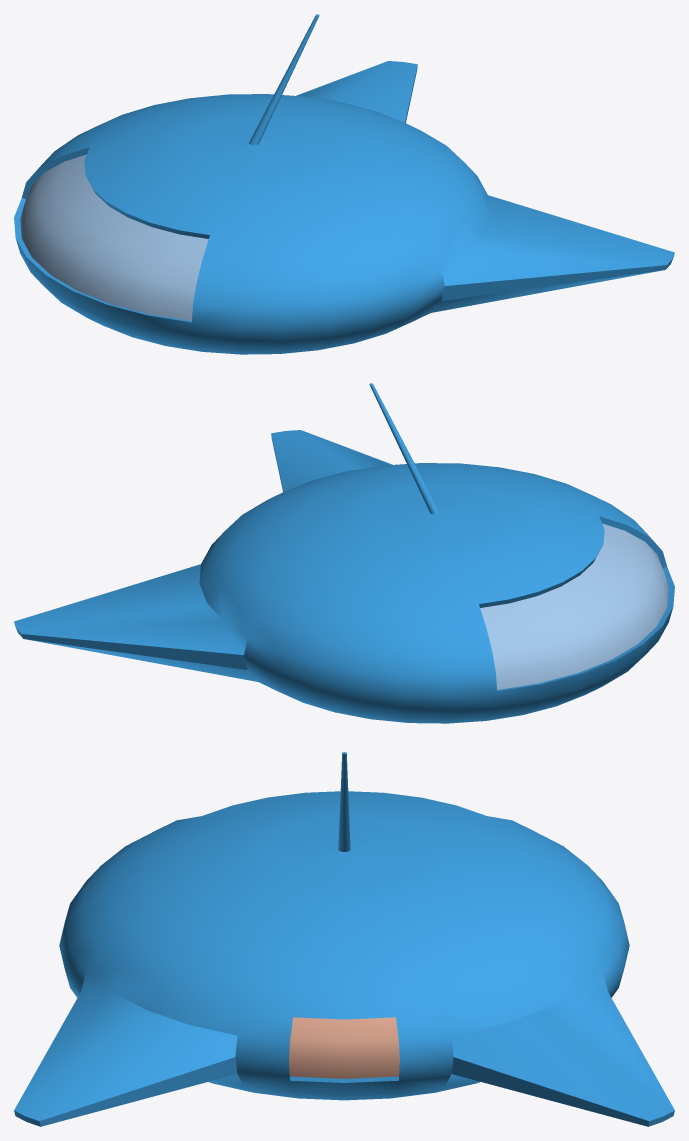
File: ship.fbx
3 views of the same model, one above another, from view 1: azimuth 30°, elevation 25°; view 2: azimuth 150°, elevation 25°; view 3: azimuth 270°, elevation 25° (orthographic). The views are drawn at different scales.
Parts seen in each view (by area): view 1: Sphere; view 2: Sphere; view 3: Sphere.
Part boxes in pixels (x1,y1,x2,y2): Sphere: [14, 14, 674, 354]; Sphere: [14, 383, 674, 723]; Sphere: [14, 752, 674, 1126].
Size of the model in its own units: 240 by 127 by 232.
